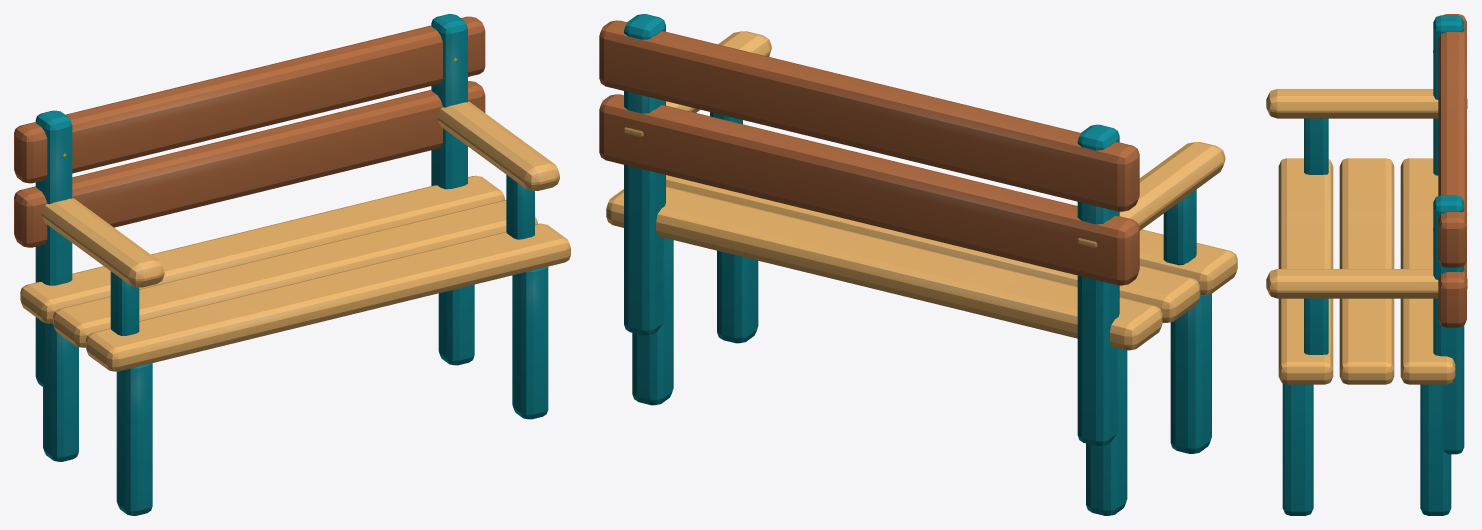
Rendered from Bench.fbx.
3 views of the same model, side by side, from view 1: azimuth 30°, elevation 25°; view 2: azimuth 150°, elevation 25°; view 3: azimuth 270°, elevation 25° (orthographic). The views are drawn at different scales.
Parts seen in each view (by area): view 1: Bench; view 2: Bench; view 3: Bench.
Boxes of the visible parts, x1=… form: Bench: x1=14, y1=14, x2=570, y2=515; Bench: x1=599, y1=14, x2=1237, y2=515; Bench: x1=1266, y1=14, x2=1467, y2=515.
Size of the model in its own units: 3.84 by 2.68 by 1.55.
Materials: 1 (1 with a texture image).
